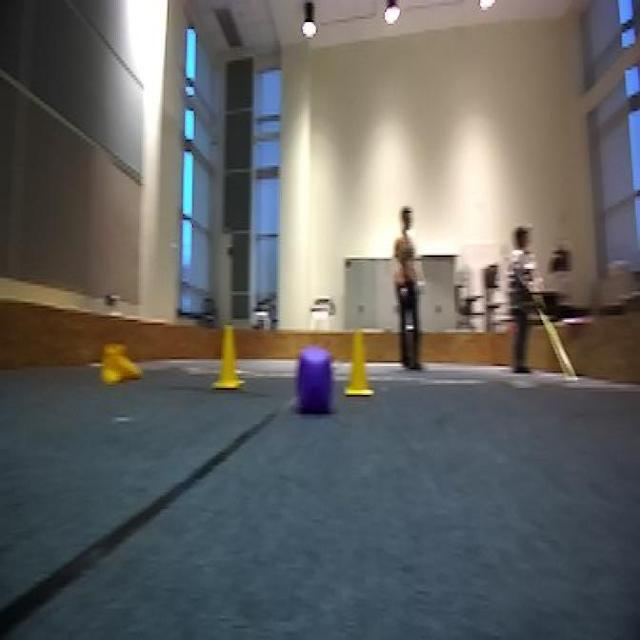frc_cone: (206, 323, 248, 390), (98, 337, 143, 386), (344, 332, 373, 400)
frc_cube: (296, 347, 335, 412)
